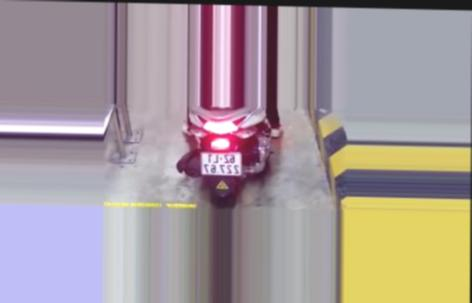License_Plate: (198, 147, 246, 181)
